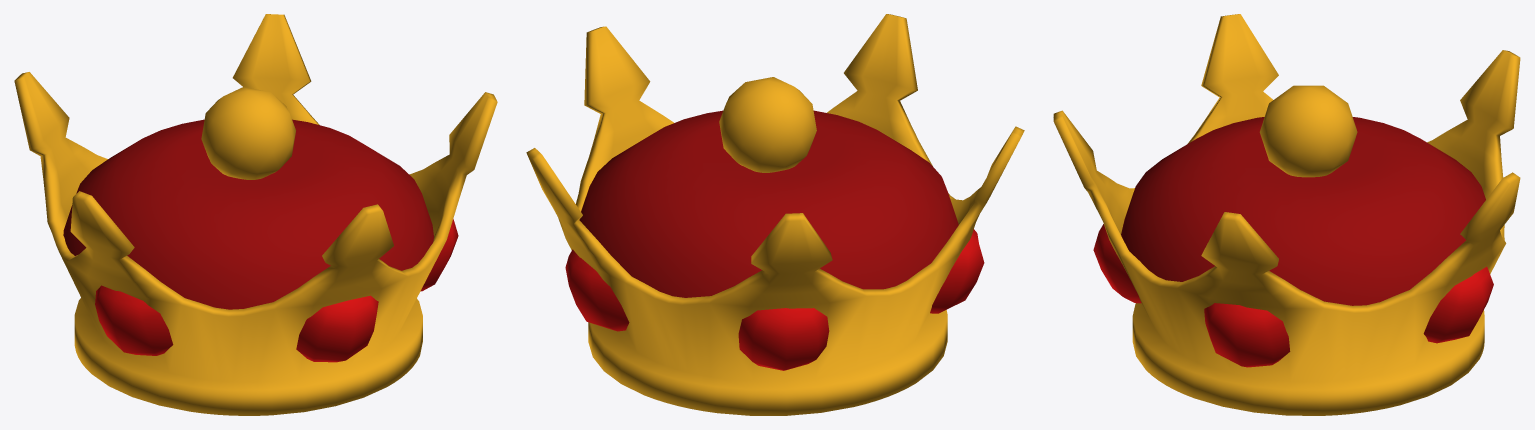
The model's file is Msh_Crown.gltf.
3 renders of one model, left to right at view 1: azimuth 30°, elevation 25°; view 2: azimuth 150°, elevation 25°; view 3: azimuth 270°, elevation 25°, orthographic. The views are drawn at different scales.
Visible parts, largest first — view 1: Ruby; view 2: Ruby; view 3: Ruby.
Boxes of the visible parts, <box> form: Ruby: <box>14,14,497,415</box>; Ruby: <box>526,14,1024,415</box>; Ruby: <box>1053,14,1520,415</box>.
Bounding box in the file's own units: 0.5015 × 0.2864 × 0.4771.
Materials: 1 (1 with a texture image).
